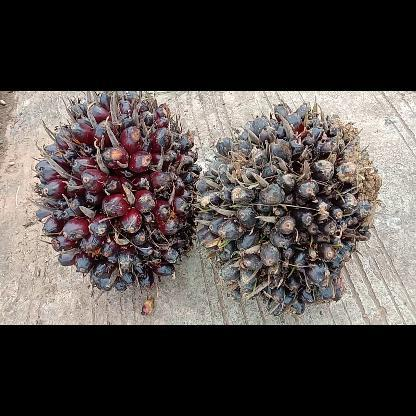TBS mentah: (193, 97, 382, 317), (31, 91, 203, 295)
